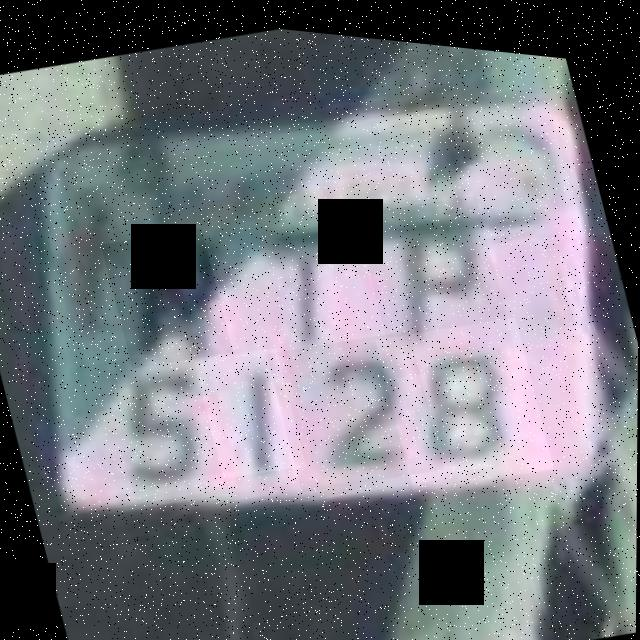1: (193, 334, 307, 481)
2: (266, 310, 445, 497)
5: (75, 331, 237, 499)
8: (374, 294, 555, 493)
N: (100, 215, 234, 374)
P: (355, 175, 518, 379)
T: (232, 202, 386, 370)
